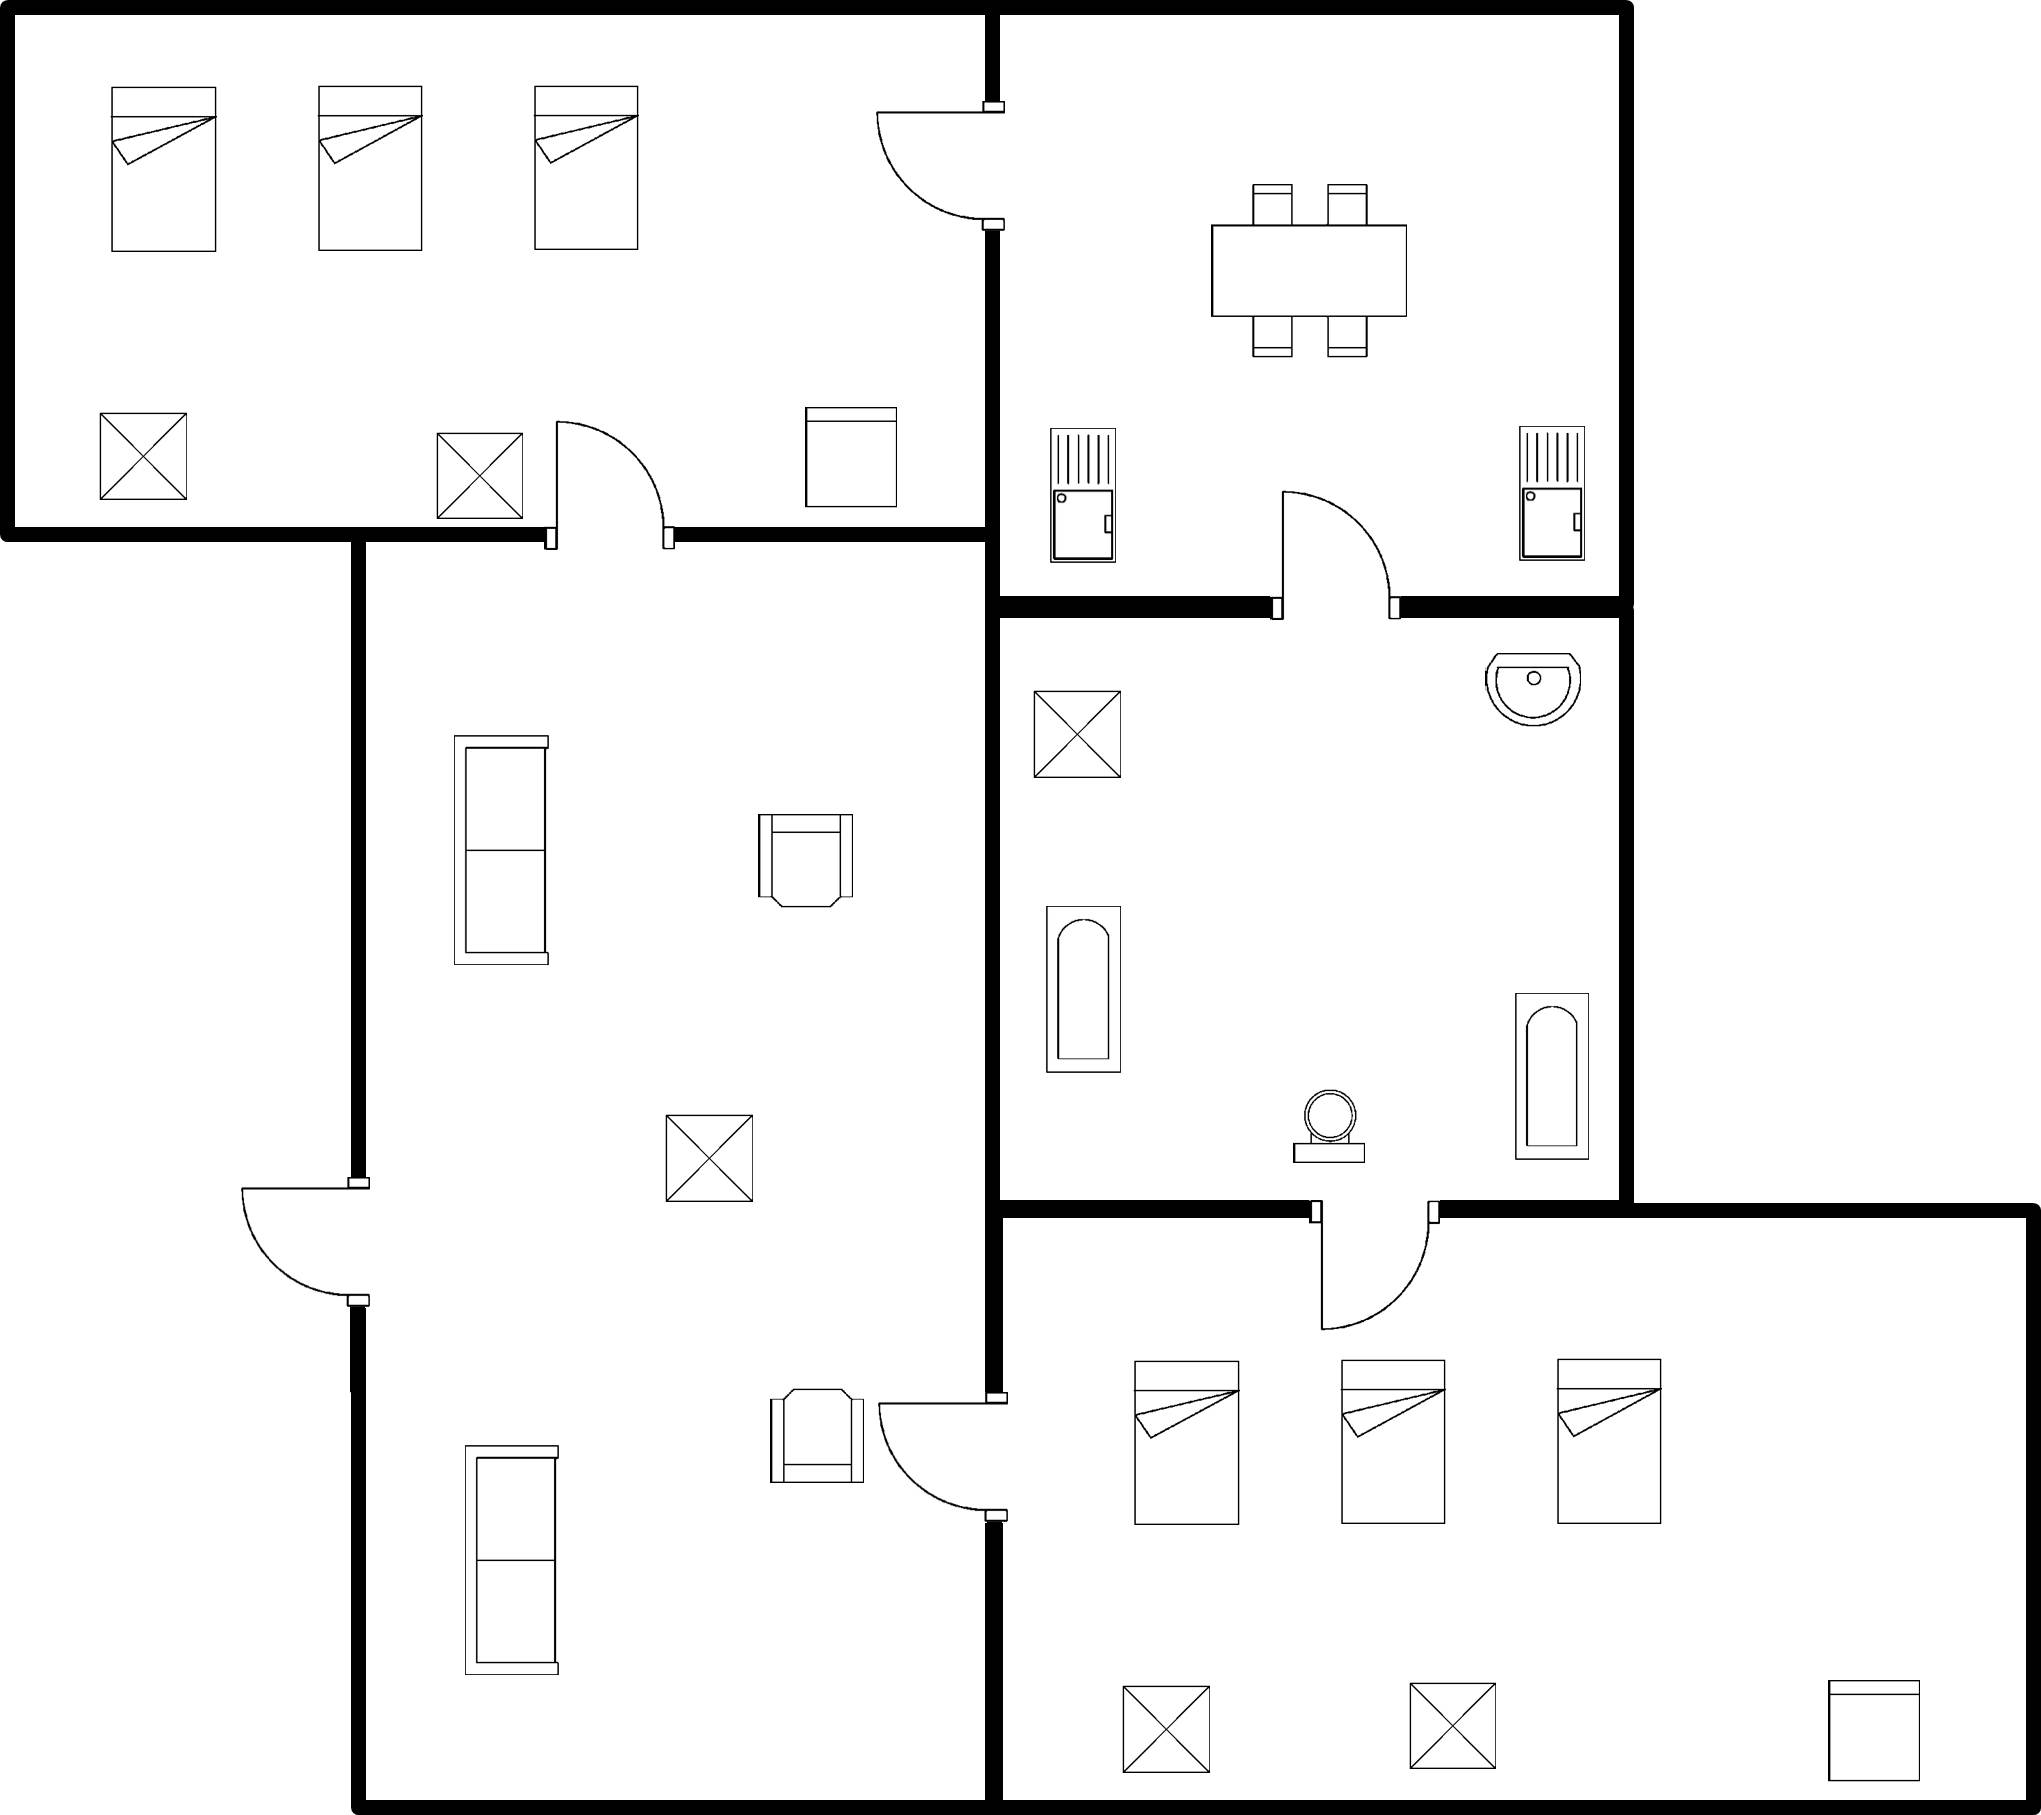armchair: (747, 800, 865, 923), (753, 1375, 872, 1498)
bed: (95, 72, 233, 266), (304, 73, 437, 263), (519, 72, 647, 265), (1329, 1348, 1458, 1538), (1547, 1348, 1678, 1531), (1124, 1347, 1251, 1538)
coffee_table: (651, 1100, 769, 1215), (1017, 679, 1137, 793), (1397, 1670, 1510, 1781), (1108, 1679, 1224, 1784), (87, 402, 195, 511), (420, 422, 533, 525)
dining_table: (1188, 168, 1424, 372)
large_sink: (1279, 1075, 1378, 1177)
large_sofa: (435, 720, 563, 975), (451, 1432, 572, 1690)
sink: (1504, 416, 1597, 577), (1037, 415, 1128, 575)
small_sink: (1469, 641, 1590, 743)
small_sofa: (1808, 1663, 1933, 1795), (788, 395, 913, 515)
tub: (1026, 893, 1140, 1088), (1497, 979, 1603, 1177)
